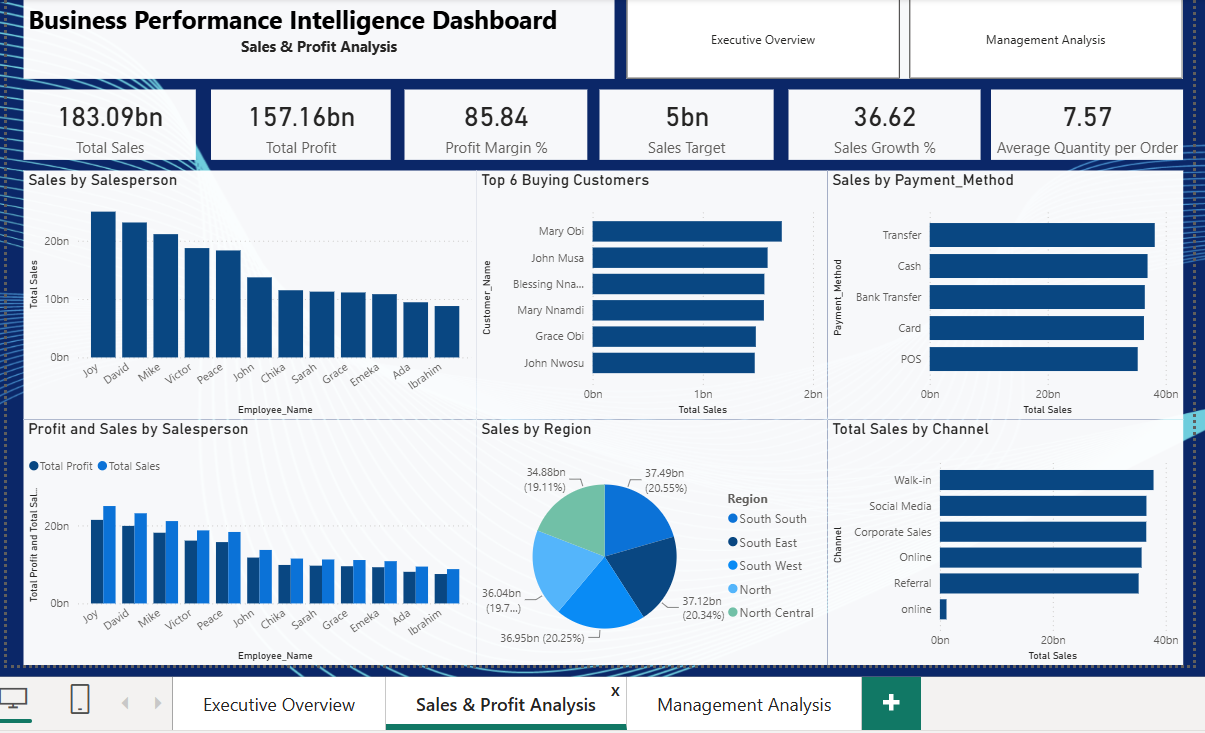

Layout of this report page (visuals, bound fields, positions):
{"tool":"powerbi","page":{"name":"Sales & Profit Analysis","canvas":[1280,720],"ordinal":1},"visuals":[{"type":"clusteredBarChart","title":"Sales by Payment_Method","fields":{"Category":["Fact_Sales.Payment_Method"],"Y":["Dim_Customers.Total Sales"]},"box":[885.7,186.2,383.8,268.8],"z":0},{"type":"textbox","box":[17.8,0,638,87.4],"z":1000},{"type":"card","fields":{"Values":["Dim_Customers.Total Sales"]},"box":[17.8,98.8,186.2,76.1],"z":2000},{"type":"card","fields":{"Values":["Dim_Customers.Total Profit"]},"box":[220.2,98.8,194.3,76.1],"z":3000},{"type":"card","fields":{"Values":["Dim_Customers.Profit Margin %"]},"box":[429.1,98.8,197.5,76.1],"z":4000},{"type":"card","fields":{"Values":["Dim_Customers.Sales Target"]},"box":[639.6,98.8,187.8,76.1],"z":5000},{"type":"card","fields":{"Values":["Dim_Customers.Sales Growth %"]},"box":[843.6,98.8,207.3,76.1],"z":6000},{"type":"card","fields":{"Values":["Dim_Customers.Average Quantity per Order"]},"box":[1062.2,98.8,207.3,76.1],"z":7000},{"type":"clusteredColumnChart","title":"Sales by Salesperson","fields":{"Category":["Dim_Employees.Employee_Name"],"Y":["Dim_Customers.Total Sales"]},"box":[17.8,186.2,489,268.8],"z":8000},{"type":"lineClusteredColumnComboChart","title":"Profit and Sales by Salesperson","fields":{"Category":["Dim_Employees.Employee_Name"],"Y":["Dim_Customers.Total Profit","Dim_Customers.Total Sales"]},"box":[17.8,455,489,265.6],"z":9000},{"type":"pieChart","title":"Sales by Region","fields":{"Category":["Dim_Customers.Region"],"Y":["Dim_Customers.Total Sales"]},"box":[506.8,455,378.9,265.6],"z":10000},{"type":"clusteredBarChart","title":"Top 6 Buying Customers","fields":{"Category":["Dim_Customers.Customer_Name"],"Y":["Dim_Customers.Total Sales"]},"box":[506.8,186.2,378.9,268.8],"z":11000},{"type":"clusteredBarChart","fields":{"Category":["Fact_Sales.Channel"],"Y":["Dim_Customers.Total Sales"]},"box":[885.7,455,383.8,265.6],"z":12000},{"type":"pageNavigator","box":[668.7,0,600.7,87.4],"z":12001}]}

Visuals, with their boxes on the page's 1280x720 design canvas (x1, y1, x2, y2). These are canvas units, not pixel positions in the 1205x733 screenshot, which may show the page scaled, cropped or inside an application window:
"Sales by Payment_Method" clusteredBarChart: rect(886, 186, 1270, 455)
textbox: rect(18, 0, 656, 87)
card - Dim_Customers.Total Sales: rect(18, 99, 204, 175)
card - Dim_Customers.Total Profit: rect(220, 99, 414, 175)
card - Dim_Customers.Profit Margin %: rect(429, 99, 627, 175)
card - Dim_Customers.Sales Target: rect(640, 99, 827, 175)
card - Dim_Customers.Sales Growth %: rect(844, 99, 1051, 175)
card - Dim_Customers.Average Quantity per Order: rect(1062, 99, 1270, 175)
"Sales by Salesperson" clusteredColumnChart: rect(18, 186, 507, 455)
"Profit and Sales by Salesperson" lineClusteredColumnComboChart: rect(18, 455, 507, 721)
"Sales by Region" pieChart: rect(507, 455, 886, 721)
"Top 6 Buying Customers" clusteredBarChart: rect(507, 186, 886, 455)
clusteredBarChart - Fact_Sales.Channel x Dim_Customers.Total Sales: rect(886, 455, 1270, 721)
pageNavigator: rect(669, 0, 1269, 87)
